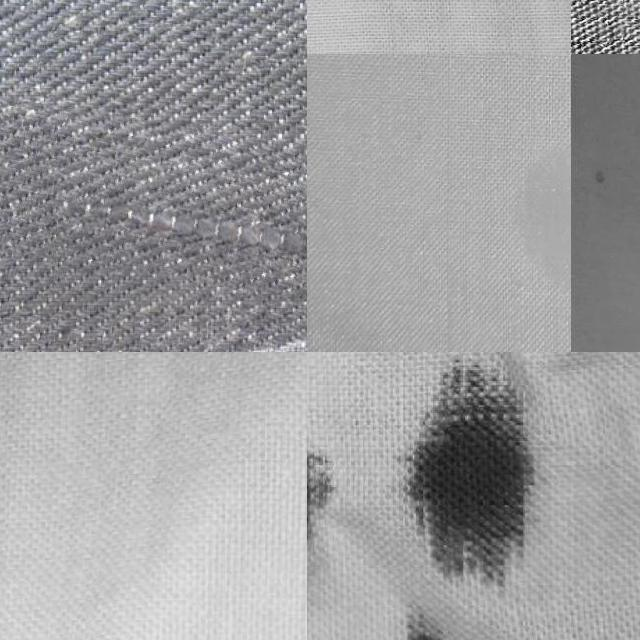Thread_other: (378, 352, 611, 594), (307, 352, 356, 640), (571, 119, 640, 316), (378, 601, 468, 640)
stains: (0, 113, 307, 307)
